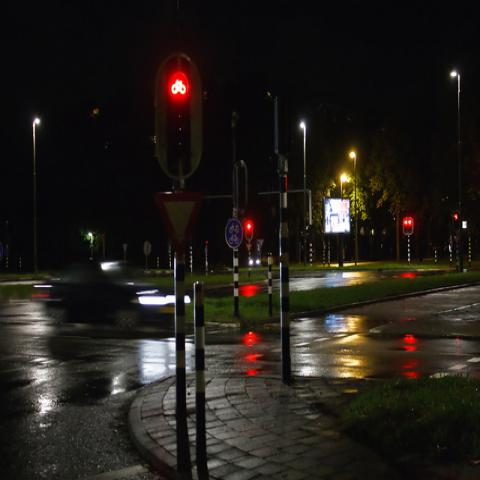car: (30, 261, 190, 329), (249, 253, 261, 267)
